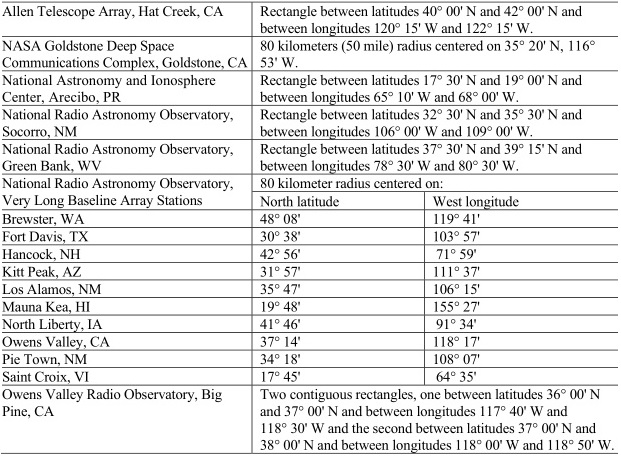column: (260, 1, 616, 455), (1, 1, 248, 455)
row: (1, 142, 621, 159), (1, 193, 621, 210), (1, 437, 621, 454), (1, 38, 621, 54), (1, 176, 621, 192), (1, 335, 621, 351), (1, 4, 621, 19), (1, 108, 621, 123), (1, 158, 621, 173), (1, 229, 621, 244), (1, 317, 621, 332), (1, 352, 621, 367), (1, 388, 621, 403), (1, 420, 621, 435), (1, 74, 621, 88), (1, 125, 621, 139), (1, 213, 621, 227), (1, 370, 621, 384), (1, 404, 621, 418), (1, 22, 620, 36), (1, 56, 621, 69), (1, 91, 621, 104), (1, 247, 621, 260), (1, 265, 621, 278), (1, 300, 621, 313), (1, 283, 621, 295)
